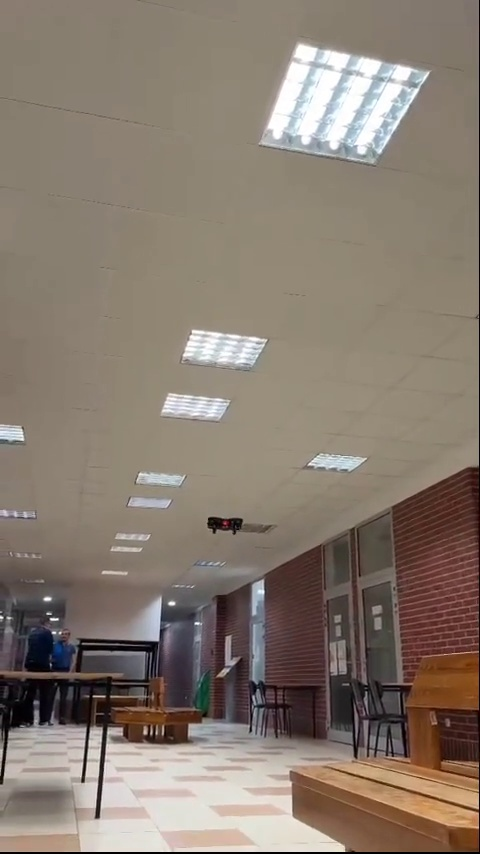drone: (206, 515, 249, 535)
no vest: (56, 626, 86, 737), (26, 613, 53, 730)
